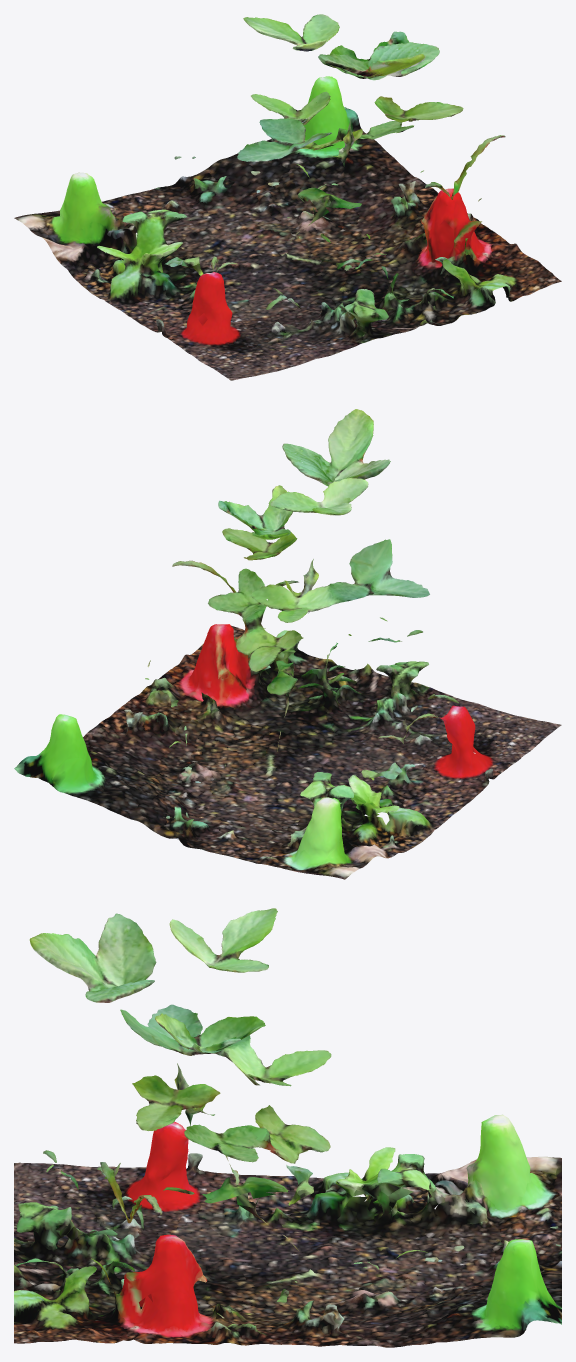
The model's file is edamame.glb.
The picture shows the model from 3 angles, top to bottom: view 1: azimuth 30°, elevation 25°; view 2: azimuth 150°, elevation 25°; view 3: azimuth 270°, elevation 25°; orthographic projection. The views are drawn at different scales.
Visible parts, largest first — view 1: Object_2; view 2: Object_2; view 3: Object_2.
Part boxes in pixels (x1,y1,x2,y2): Object_2: [14, 14, 561, 380]; Object_2: [14, 409, 561, 879]; Object_2: [14, 908, 561, 1347].
Bounding box in the file's own units: 0.4094 × 0.3408 × 0.4648.
1 material, 1 textured.
